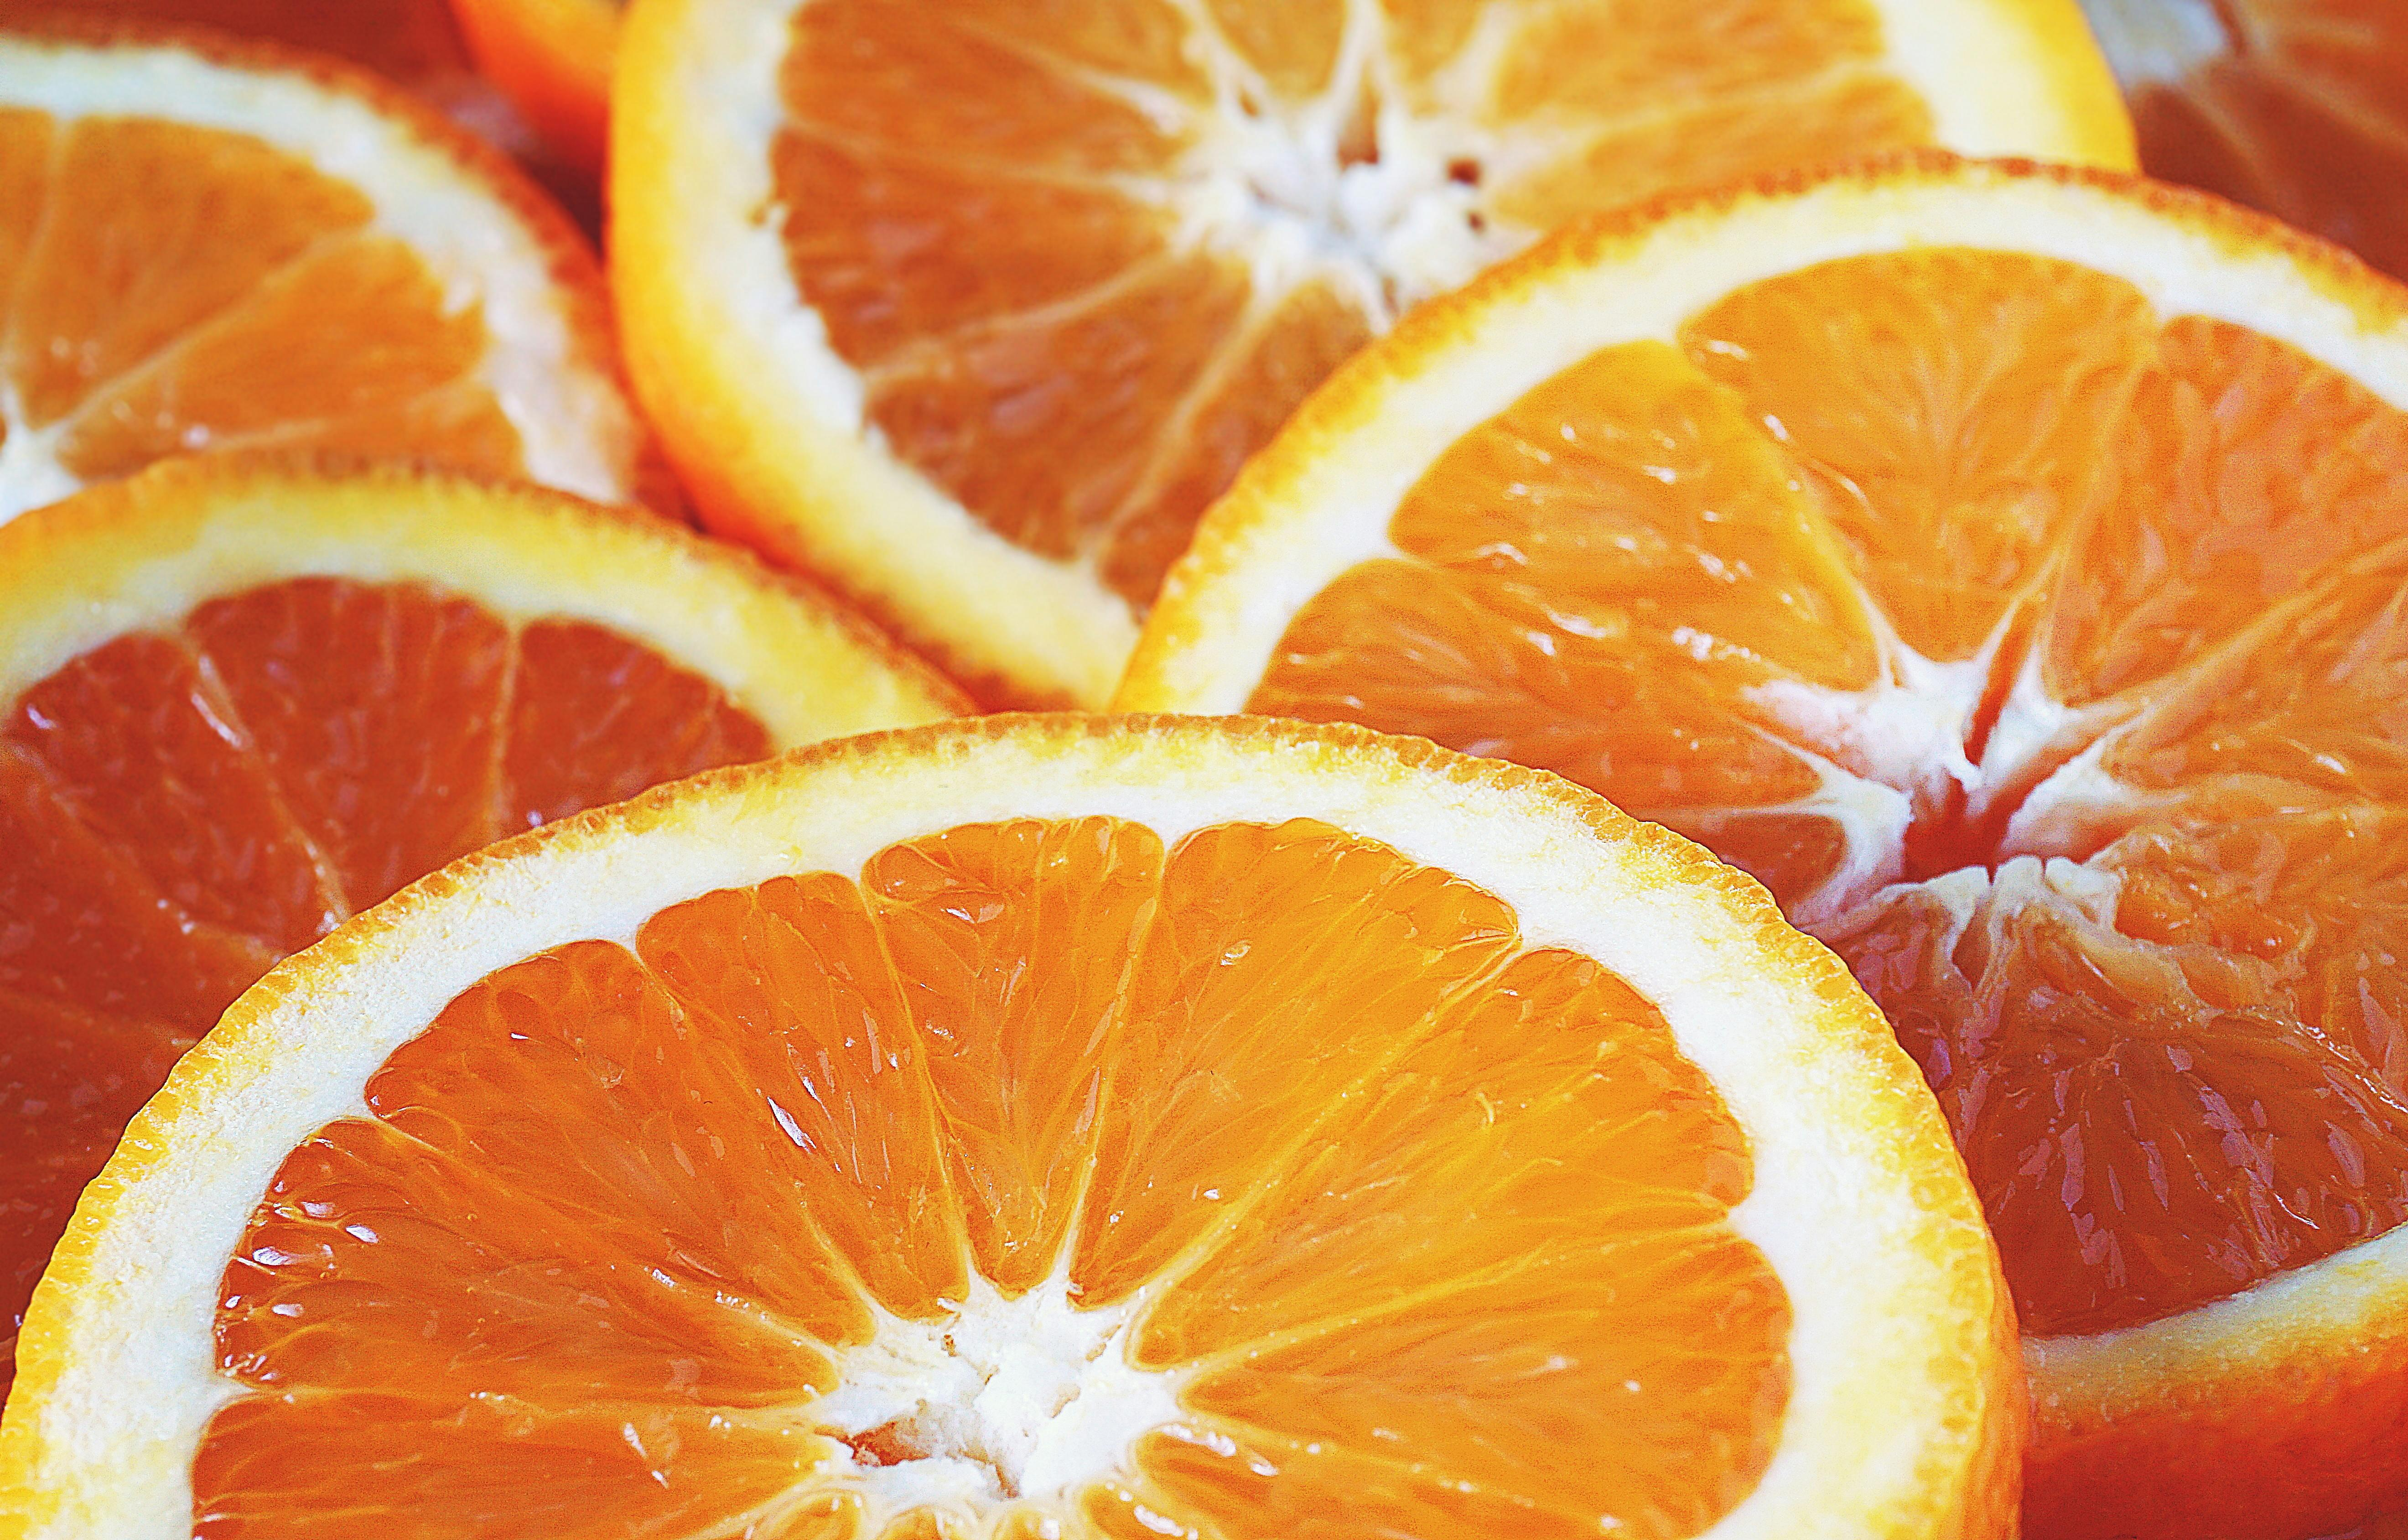Orange: (981, 137, 2397, 1531)
